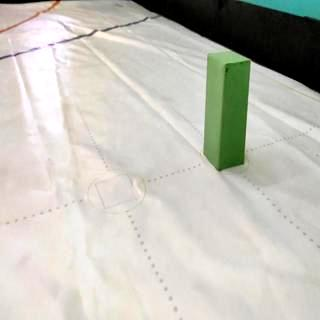greenbox: (202, 49, 250, 169)
